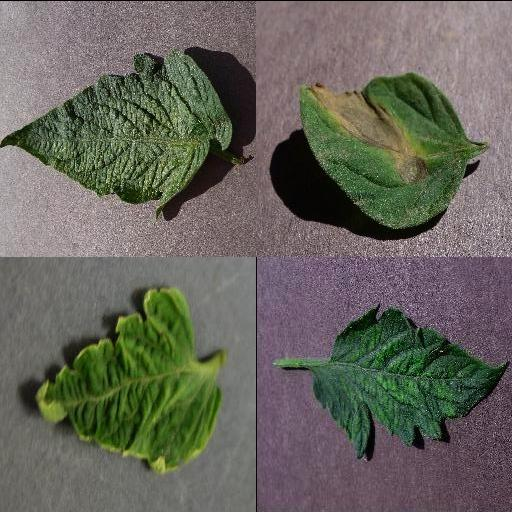Early Blight: (299, 70, 471, 226)
Mosaic Virus: (310, 303, 508, 462)
Spider Mites: (0, 50, 234, 214)
Yellow Leaf Curl Virus: (35, 285, 221, 473)
